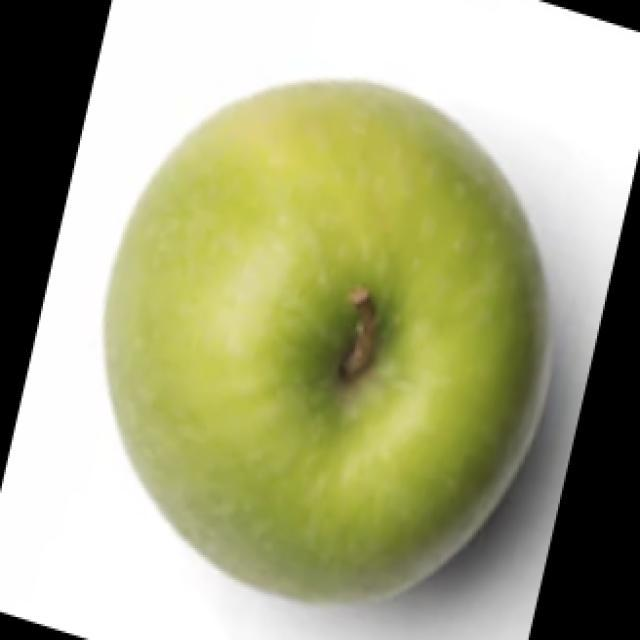Apple: (102, 77, 554, 606)
